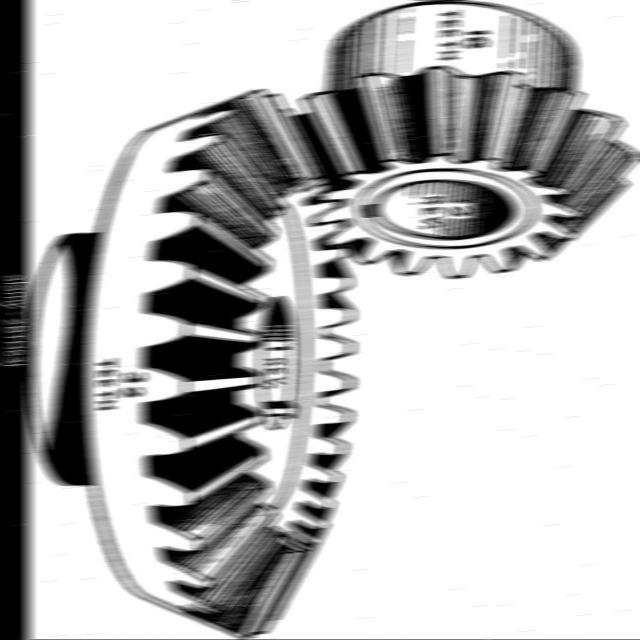Gear: (73, 86, 357, 640), (287, 29, 640, 280)
